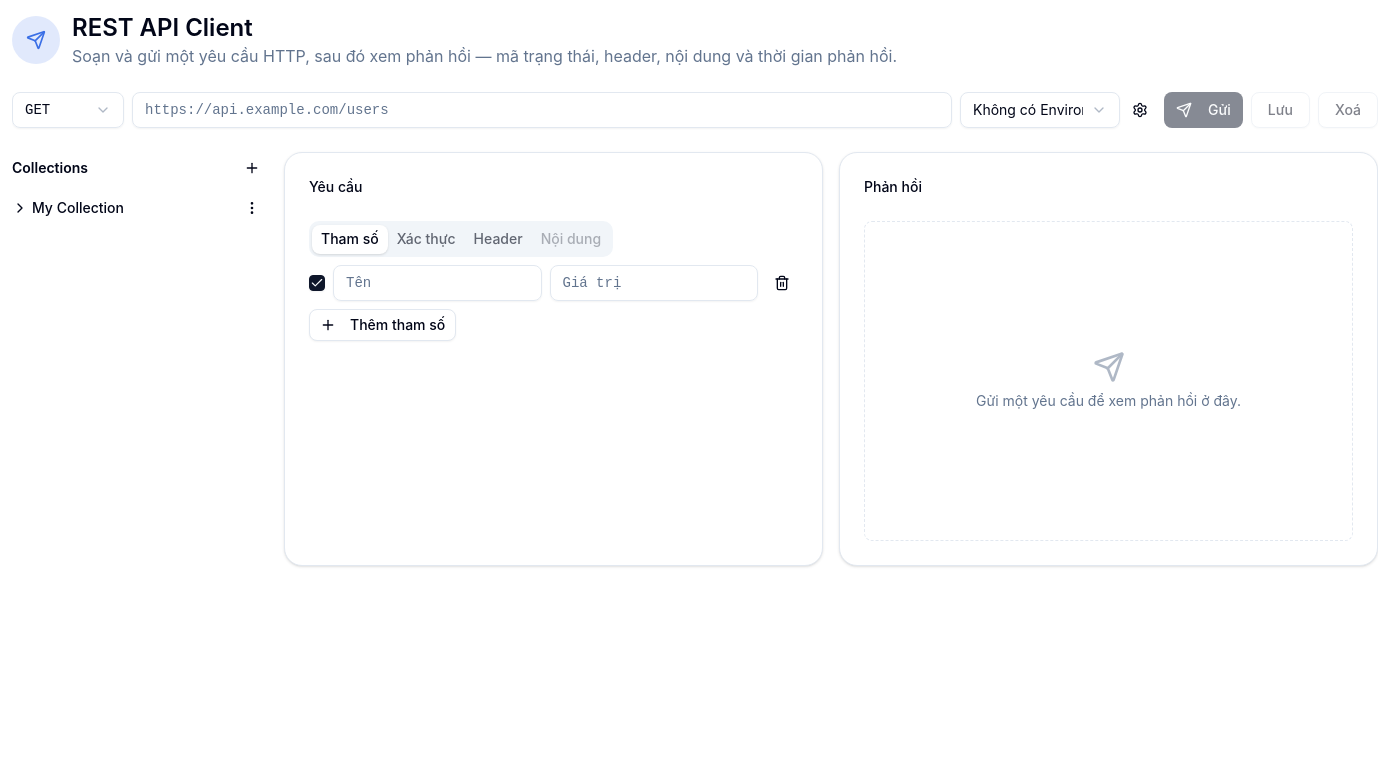
Scenario: RestApiClientScreen › loads a saved request into the builder when clicked in the sidebar
Click the button "My Collection". click: (122, 208)
box: [12,198,232,218]
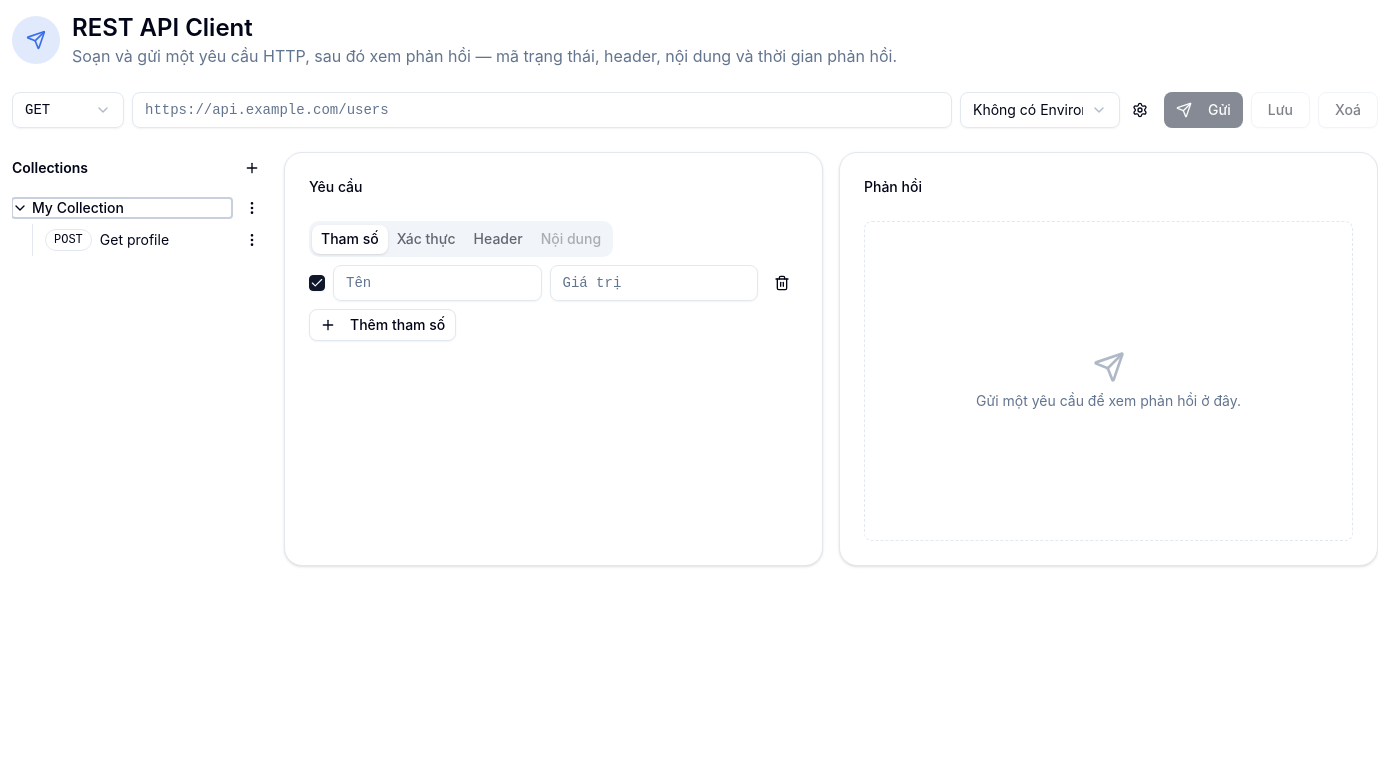
Click the button "POST Get profile". click: (136, 240)
box: [41,225,232,255]
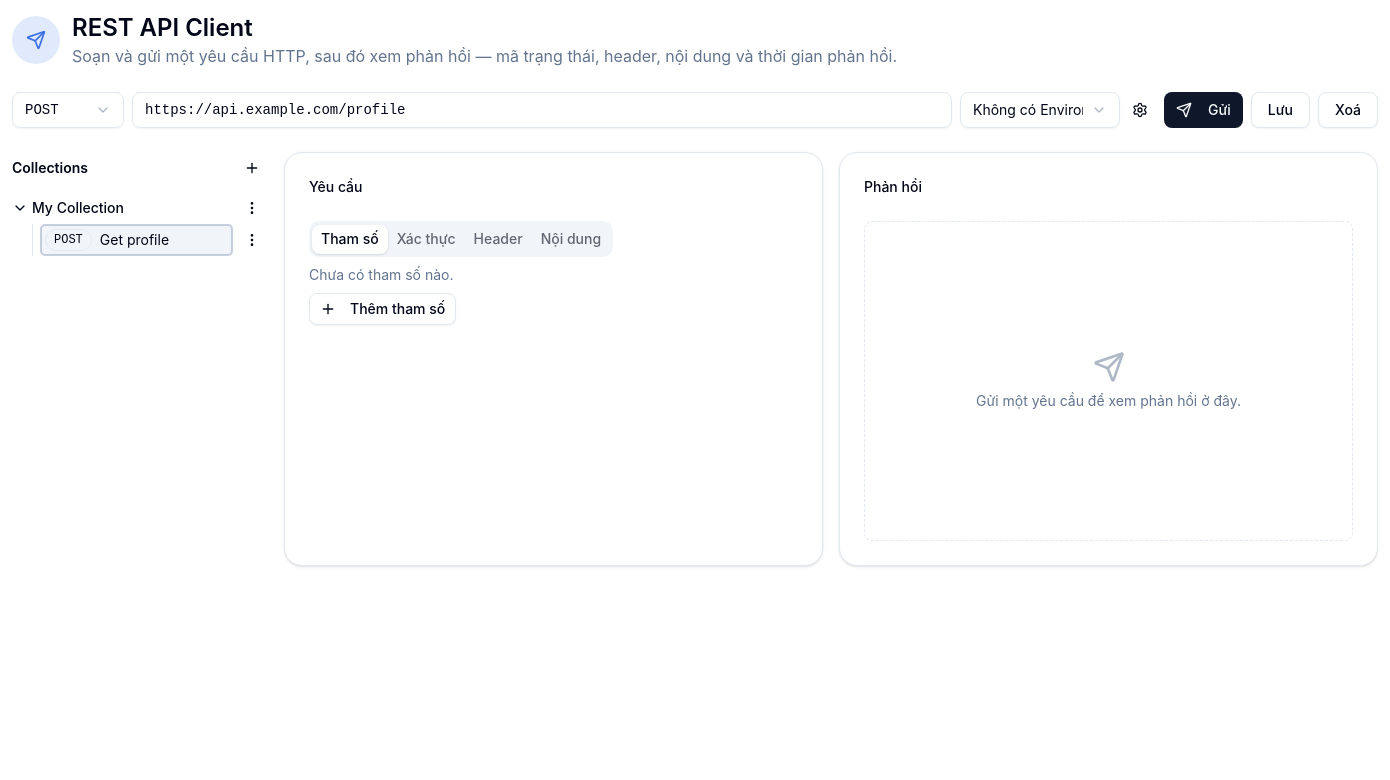
Result: the field named "URL yêu cầu" holds "https://api.example.com/profile" at [132,92,952,128]
